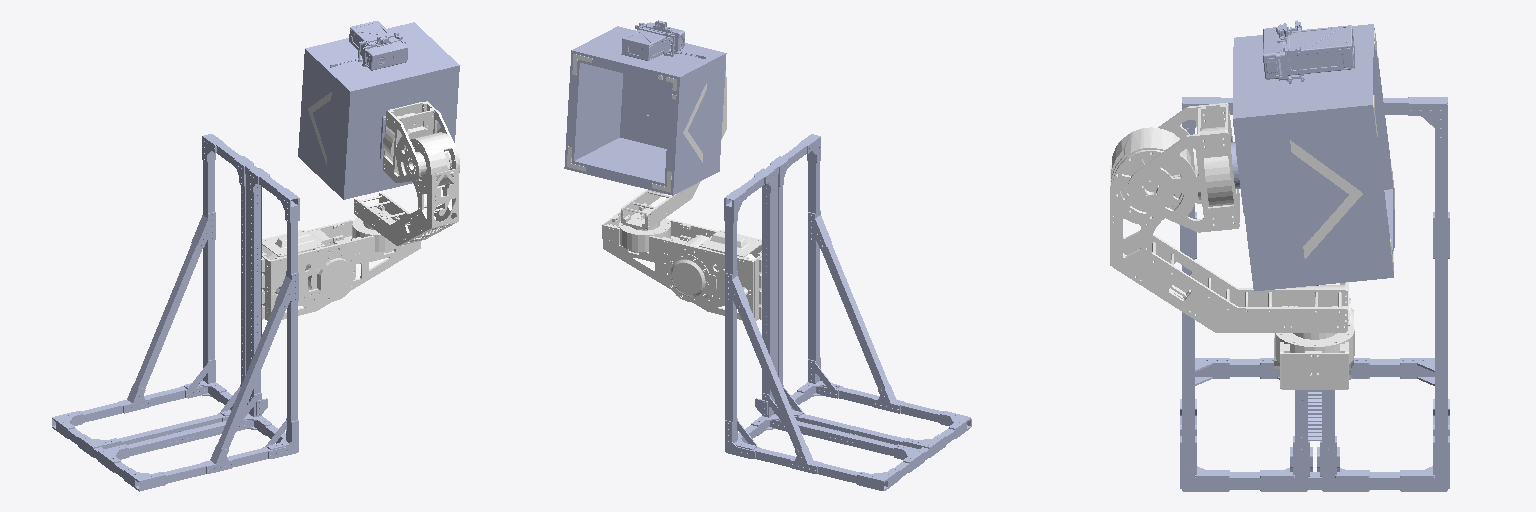
robot.urdf — exchanger:
<?xml version="1.0" ?>

<robot
  name="exchanger">
  <link
    name="base_link">
    <inertial>
      <origin
        xyz="-0.065998 9.3269E-10 0.20062"
        rpy="0 0 0" />
      <mass
        value="50.0" />
      <inertia
        ixx="0.063324"
        ixy="-1.8684E-11"
        ixz="-0.014803"
        iyy="0.065259"
        iyz="-1.8236E-10"
        izz="0.032272" />
    </inertial>
    <visual>
      <origin
        xyz="0 0 0"
        rpy="0 0 0" />
      <geometry>
        <mesh
          filename="package://exchanger/meshes/base_link.STL" />
      </geometry>
      <material
        name="">
        <color
          rgba="0.79216 0.81961 0.93333 1" />
      </material>
    </visual>
    <collision>
      <origin
        xyz="0 0 0"
        rpy="0 0 0" />
      <geometry>
        <mesh
          filename="package://exchanger/meshes/base_link.STL" />
      </geometry>
    </collision>
  </link>
  <link
    name="link1">
    <inertial>
      <origin
        xyz="0.213392772330689 -0.00509704860214999 0.337580740890942"
        rpy="0 0 0" />
      <mass
        value="2.282915007069" />
      <inertia
        ixx="0.00604091937731786"
        ixy="-0.000147578128070759"
        ixz="-0.00426644299116084"
        iyy="0.0297290495324142"
        iyz="-0.000235437861235942"
        izz="0.0287485987459996" />
    </inertial>
    <visual>
      <origin
        xyz="0 0 0"
        rpy="0 0 0" />
      <geometry>
        <mesh
          filename="package://exchanger/meshes/link1.STL" />
      </geometry>
      <material
        name="">
        <color
          rgba="1 1 1 1" />
      </material>
    </visual>
    <collision>
      <origin
        xyz="0 0 0"
        rpy="0 0 0" />
      <geometry>
        <mesh
          filename="package://exchanger/meshes/link1.STL" />
      </geometry>
    </collision>
  </link>
  <joint
    name="joint1"
    type="fixed">
    <origin
      xyz="0 0 0"
      rpy="0 0 0" />
    <parent
      link="base_link" />
    <child
      link="link1" />
    <axis
      xyz="-1 0 0" />

  </joint>
  <link
    name="link2">
    <inertial>
      <origin
        xyz="-0.208589064287454 0.215241777117513 -0.00833768913833344"
        rpy="0 0 0" />
      <mass
        value="1.07795923923666" />
      <inertia
        ixx="0.0111831635668634"
        ixy="0.00712858312659892"
        ixz="-0.00028157173374696"
        iyy="0.00905404013684289"
        iyz="0.000369124478139303"
        izz="0.01898068372233" />
    </inertial>
    <visual>
      <origin
        xyz="0 0 0"
        rpy="0 0 0" />
      <geometry>
        <mesh
          filename="package://exchanger/meshes/link2.STL" />
      </geometry>
      <material
        name="">
        <color
          rgba="1 1 1 1" />
      </material>
    </visual>
    <collision>
      <origin
        xyz="0 0 0"
        rpy="0 0 0" />
      <geometry>
        <mesh
          filename="package://exchanger/meshes/link2.STL" />
      </geometry>
    </collision>
  </link>
  <joint
    name="joint2"
    type="fixed">
    <origin
      xyz="0.347 0 0.37693"
      rpy="1.6041 0 1.5708" />
    <parent
      link="link1" />
    <child
      link="link2" />
    <axis
      xyz="0 0.99944 -0.033315" />
    <limit
      lower="-0.6001"
      upper="5.0001"
      effort="100.0"
      velocity="1.0" />
  </joint>
  <link
    name="link3">
    <inertial>
      <origin
        xyz="0.00737253732271576 -0.00155423544896682 -0.0886581909320671"
        rpy="0 0 0" />
      <mass
        value="1.69536995651735" />
      <inertia
        ixx="0.00265498106240398"
        ixy="7.93762619937815E-06"
        ixz="-9.44494125806837E-05"
        iyy="0.00267314045360387"
        iyz="-7.12046867822945E-05"
        izz="0.00349171316882647" />
    </inertial>
    <visual>
      <origin
        xyz="0 0 0"
        rpy="0 0 0" />
      <geometry>
        <mesh
          filename="package://exchanger/meshes/link3.STL" />
      </geometry>
      <material
        name="">
        <color
          rgba="1 1 1 1" />
      </material>
    </visual>
    <collision>
      <origin
        xyz="0 0 0"
        rpy="0 0 0" />
      <geometry>
        <mesh
          filename="package://exchanger/meshes/link3.STL" />
      </geometry>
    </collision>
  </link>
  <joint
    name="joint3"
    type="fixed">
    <origin
      xyz="-0.2437 0.28072 -0.013034"
      rpy="-1.5766 0.033321 1.5708" />
    <parent
      link="link2" />
    <child
      link="link3" />
    <axis
      xyz="0 -1 0" />
    <limit
      lower="-3.5001"
      upper="0.20001"
      effort="100.0"
      velocity="1.0" />
  </joint>
  <link
    name="link4">
    <inertial>
      <origin
        xyz="0.00998632280169748 -0.136133560948424 -0.000593583314559387"
        rpy="0 0 0" />
      <mass
        value="6.13598300943169" />
      <inertia
        ixx="0.0863697510908788"
        ixy="-2.18576836205284E-08"
        ixz="-4.24054059390386E-08"
        iyy="0.12776437696811"
        iyz="2.77605781266973E-06"
        izz="0.0868978590764911" />
    </inertial>
    <visual>
      <origin
        xyz="0 0 0"
        rpy="0 0 0" />
      <geometry>
        <mesh
          filename="package://exchanger/meshes/link4.STL" />
      </geometry>
      <material
        name="">
        <color
          rgba="0.792156862745098 0.819607843137255 0.933333333333333 1" />
      </material>
    </visual>
    <collision>
      <origin
        xyz="0 0 0"
        rpy="0 0 0" />
      <geometry>
        <mesh
          filename="package://exchanger/meshes/link4.STL" />
      </geometry>
    </collision>
  </link>
  <joint
    name="joint4"
    type="fixed">
    <origin
      xyz="0.008608 -0.002268 -0.099741"
      rpy="1.5708 -0.11102 0" />
    <parent
      link="link3" />
    <child
      link="link4" />
    <axis
      xyz="0 -1 0" />
    <limit
      lower="-1.0"
      upper="1.0"
      effort="100.0"
      velocity="1.0" />
  </joint>
  <link
    name="link_li">
    <inertial>
      <origin
        xyz="-0.0025912020847621 -0.19202499574442 0.00228329049728504"
        rpy="0 0 0" />
      <mass
        value="0.0113454683183758" />
      <inertia
        ixx="5.91223776855283E-06"
        ixy="9.45139765567244E-08"
        ixz="1.01549764761384E-07"
        iyy="2.20403296645694E-05"
        iyz="-2.18532486063889E-18"
        izz="2.66145928124362E-05" />
    </inertial>
    <visual>
      <origin
        xyz="0 0 0"
        rpy="0 0 0" />
      <geometry>
        <mesh
          filename="package://exchanger/meshes/link_li.STL" />
      </geometry>
      <material
        name="">
        <color
          rgba="1 1 1 1" />
      </material>
    </visual>
    <collision>
      <origin
        xyz="0 0 0"
        rpy="0 0 0" />
      <geometry>
        <mesh
          filename="package://exchanger/meshes/link_li.STL" />
      </geometry>
    </collision>
  </link>
  <joint
    name="joint_li"
    type="fixed">
    <origin
      xyz="0 0 0"
      rpy="0 0 0" />
    <parent
      link="link4" />
    <child
      link="link_li" />
    <axis
      xyz="0 0 0" />
  </joint>

  <gazebo reference="base_link">
      <material>Gazebo/Gray</material>
      <gravity>true</gravity>
      <selfCollide>true</selfCollide>      
  </gazebo>
  <gazebo reference="link1">
      <material>Gazebo/Gray</material>
      <selfCollide>false</selfCollide>
  </gazebo>
  <gazebo reference="link2">
      <material>Gazebo/Gray</material>
  </gazebo>
  <gazebo reference="link3">
      <material>Gazebo/Gray</material>
  </gazebo>
  <gazebo reference="link4">
      <material>Gazebo/Black</material>
  </gazebo>
  <gazebo reference="link_li">
      <material>Gazebo/Red</material>
  </gazebo>
</robot>

--- Render facts (derived) ---
Views: 3 orthographic renders of the robot side by side, from view 1: azimuth 30°, elevation 25°; view 2: azimuth 150°, elevation 25°; view 3: azimuth 270°, elevation 25°.
Robot: exchanger — 6 links, 5 joints (5 fixed); root link base_link; default pose: every joint at zero.
Visible links, largest first — view 1: base_link, link4, link1, link2, link3; view 2: base_link, link4, link1, link2, link_li; view 3: link4, base_link, link2, link3, link1, link_li.
Link boxes in pixels (<box>): base_link: <box>52,134,299,491</box>; link4: <box>298,21,459,199</box>; link1: <box>261,218,420,320</box>; link2: <box>354,132,459,245</box>; link3: <box>383,101,452,182</box>; base_link: <box>724,134,971,490</box>; link4: <box>564,20,726,195</box>; link1: <box>602,211,761,320</box>; link2: <box>621,71,726,230</box>; link_li: <box>567,54,706,192</box>; link4: <box>1231,20,1394,291</box>; base_link: <box>1180,97,1449,491</box>; link2: <box>1110,127,1347,339</box>; link3: <box>1128,103,1239,232</box>; link1: <box>1274,282,1354,389</box>; link_li: <box>1290,30,1394,270</box>.
Size in the robot's own frame: 0.8917 by 0.5107 by 0.9155 metres.
6 mesh visuals loaded from 6 distinct referenced files (6 binary STL).
